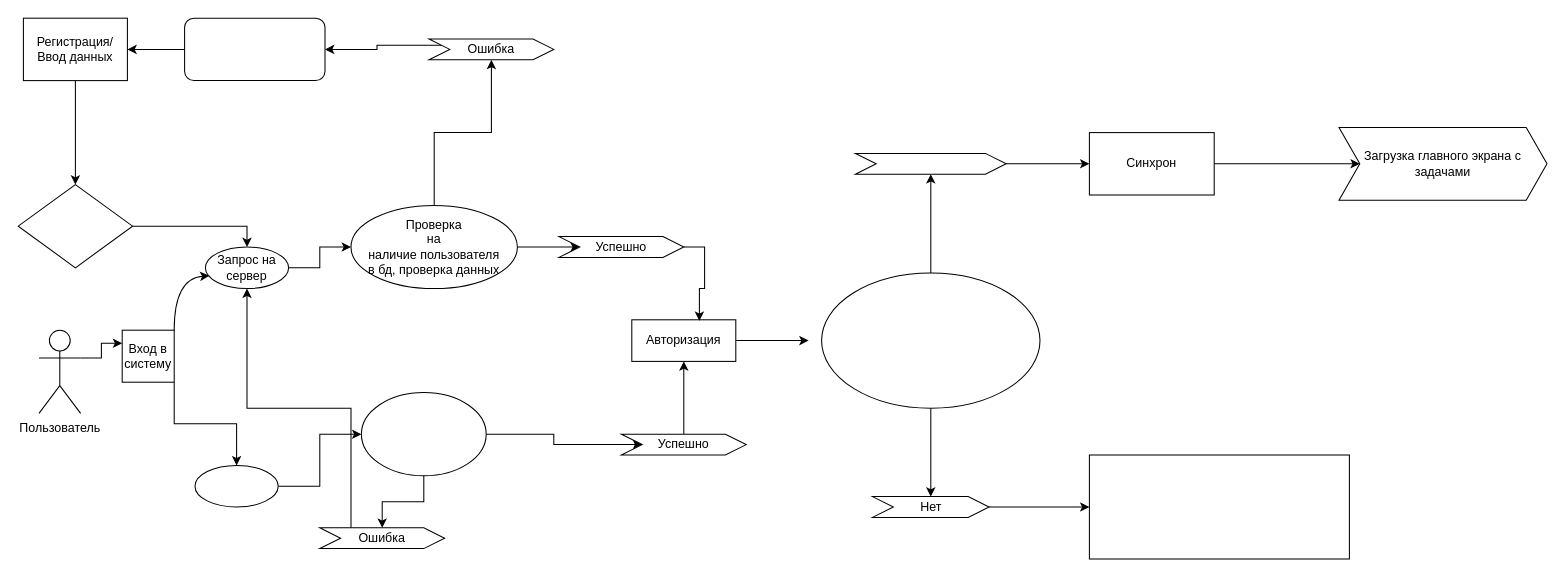
This 1565x577 diagram has some shape labels left out. The shapes that lost their labels are listed below. From the top down, each one's centre as x and y in pixels, then its label:
At [254,49]: "Новый пользователь".
At [930,163]: "Да".
At [75,226]: "Запись в бд".
At [930,340]: "Проверка в БД, есть ли привязанные к пользаку категории задач".
At [423,434]: "Проверка на наличие обновление, целостности".
At [236,485]: "Запрос локальный".
At [1218,506]: "Вывод на экран пустого ЛК и формы для создания новых категорий и задач".
